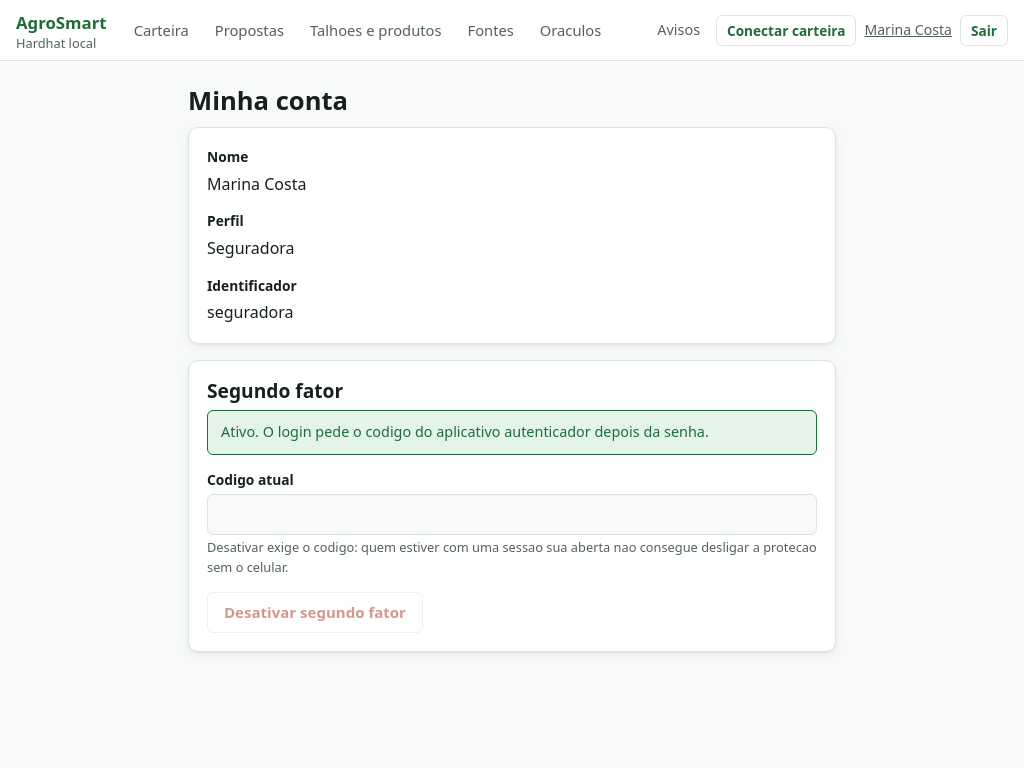
it: minha conta: segundo fator (RF01) › desativar exige o codigo atual, e o erro do servidor aparece
Step 1. Type "000000" into the field labelled "Codigo atual" → (512,515), box [207,494,817,535]
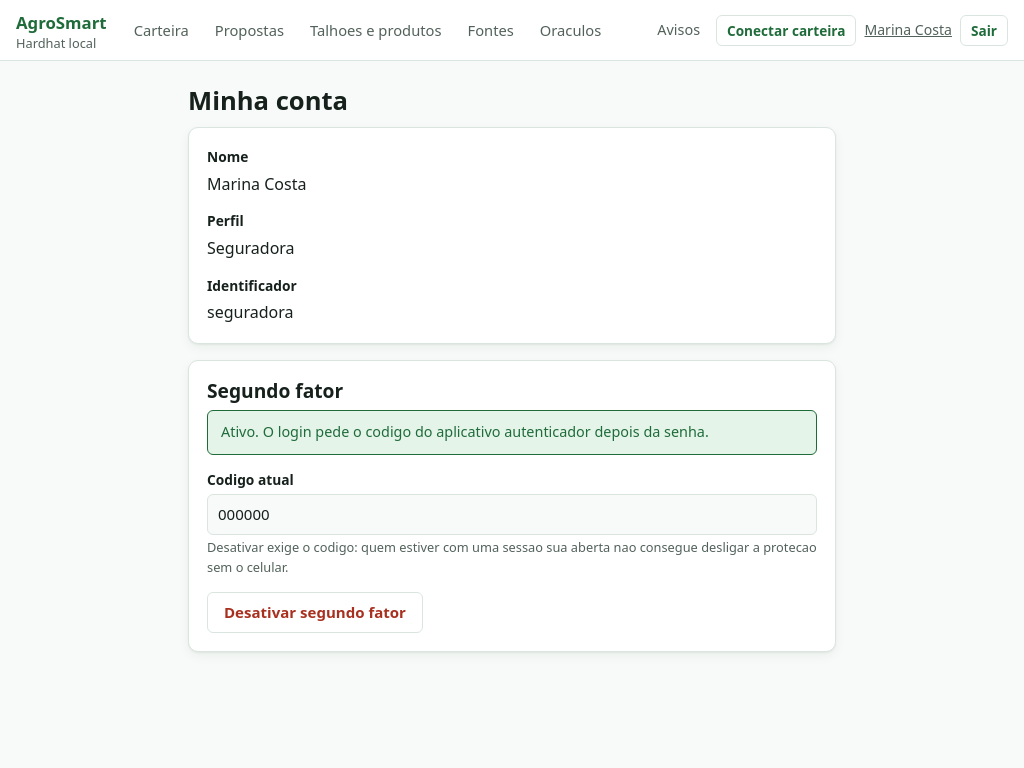
Step 2. Click the button "Desativar segundo fator" → (315,613), box [207,592,423,633]
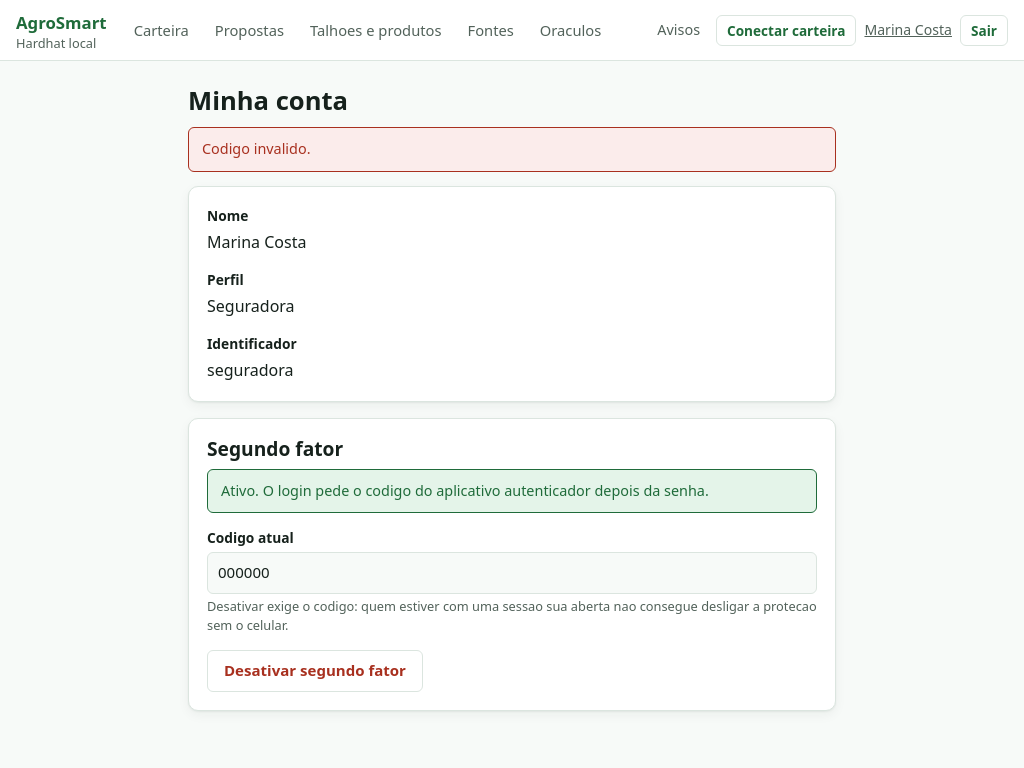
Check: the text "Codigo invalido." is shown, box [188,127,836,172]
